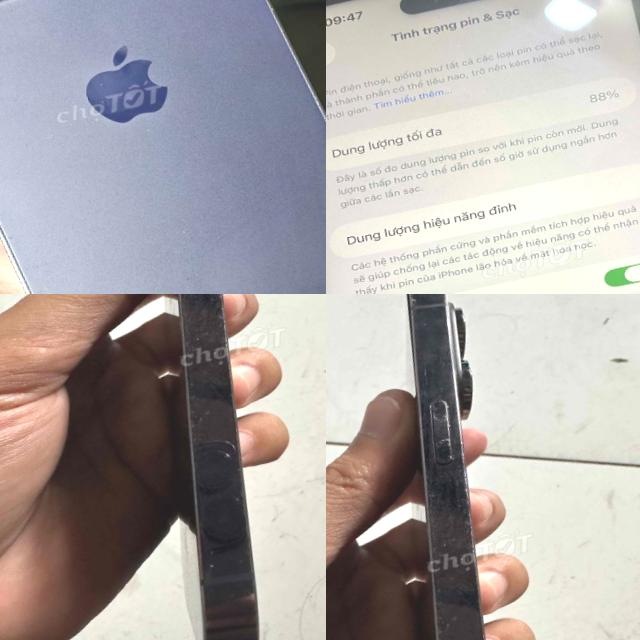gen_14: (0, 0, 326, 294), (326, 294, 601, 640), (326, 0, 640, 294), (70, 294, 326, 640)
scratch: (395, 366, 482, 509), (186, 543, 265, 619), (180, 386, 244, 462), (427, 591, 491, 640), (75, 70, 122, 134), (396, 294, 473, 323), (0, 165, 20, 253), (311, 151, 326, 207)
